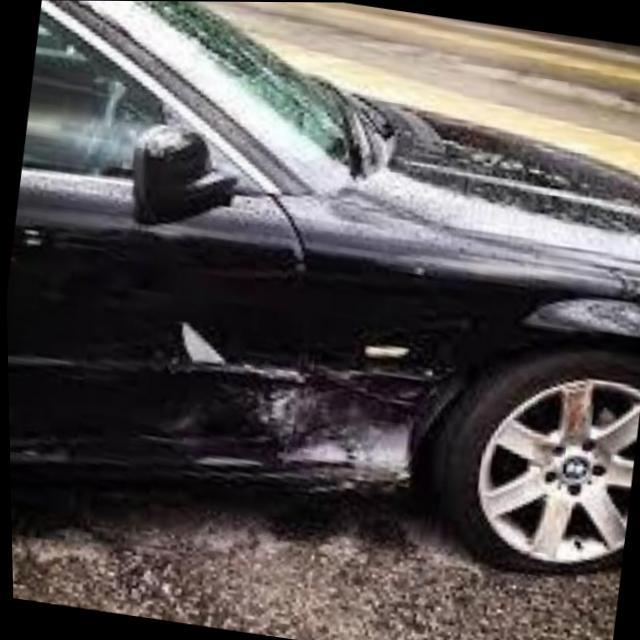dent: (162, 313, 468, 495)
